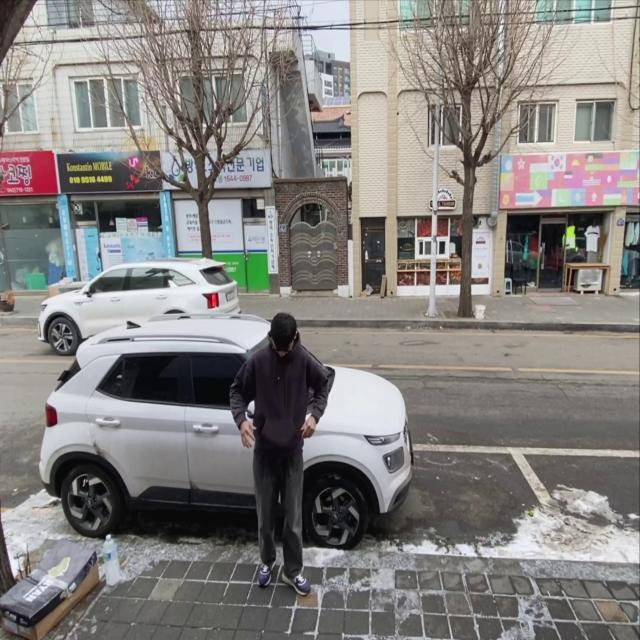bare_hand: (238, 415, 260, 456), (300, 414, 320, 443)
